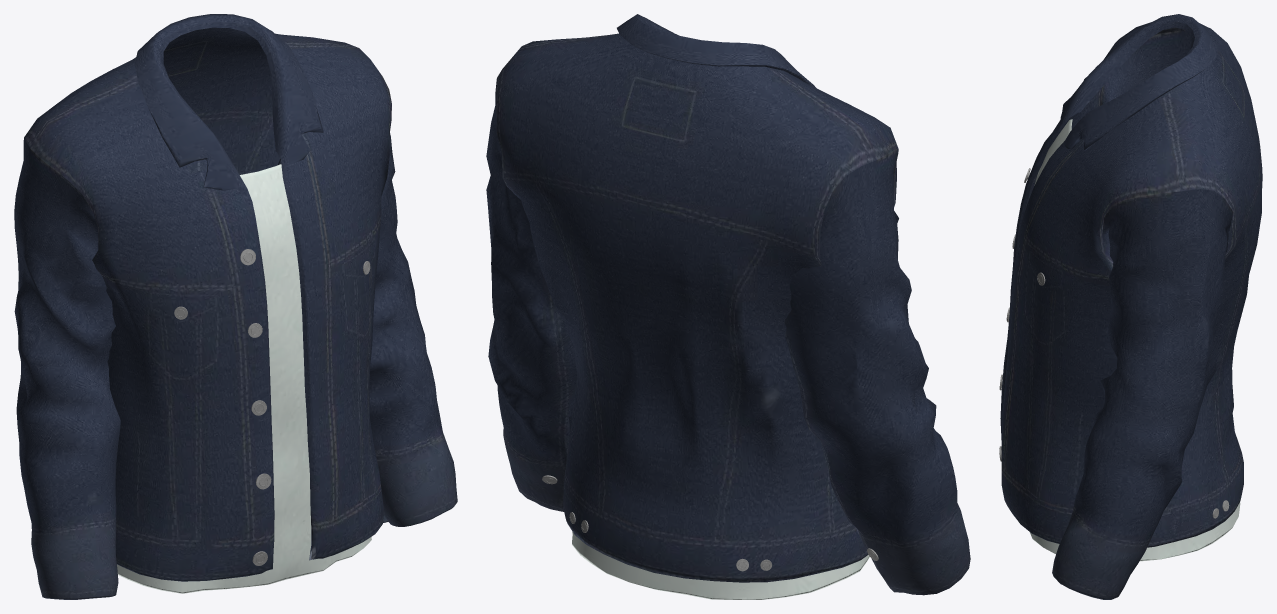
The model's file is denim_jacket.glb.
The picture shows the model from 3 angles, left to right: view 1: azimuth 30°, elevation 25°; view 2: azimuth 150°, elevation 25°; view 3: azimuth 270°, elevation 25°; orthographic projection. The views are drawn at different scales.
Visible parts, largest first — view 1: defaultMaterial; view 2: defaultMaterial; view 3: defaultMaterial.
Part boxes in pixels (x1,y1,x2,y2): defaultMaterial: (14, 14, 457, 599); defaultMaterial: (486, 14, 970, 599); defaultMaterial: (999, 14, 1262, 599).
Bounding box in the file's own units: 0.5763 × 0.6787 × 0.3336.
Materials: 2 (2 with a texture image).
